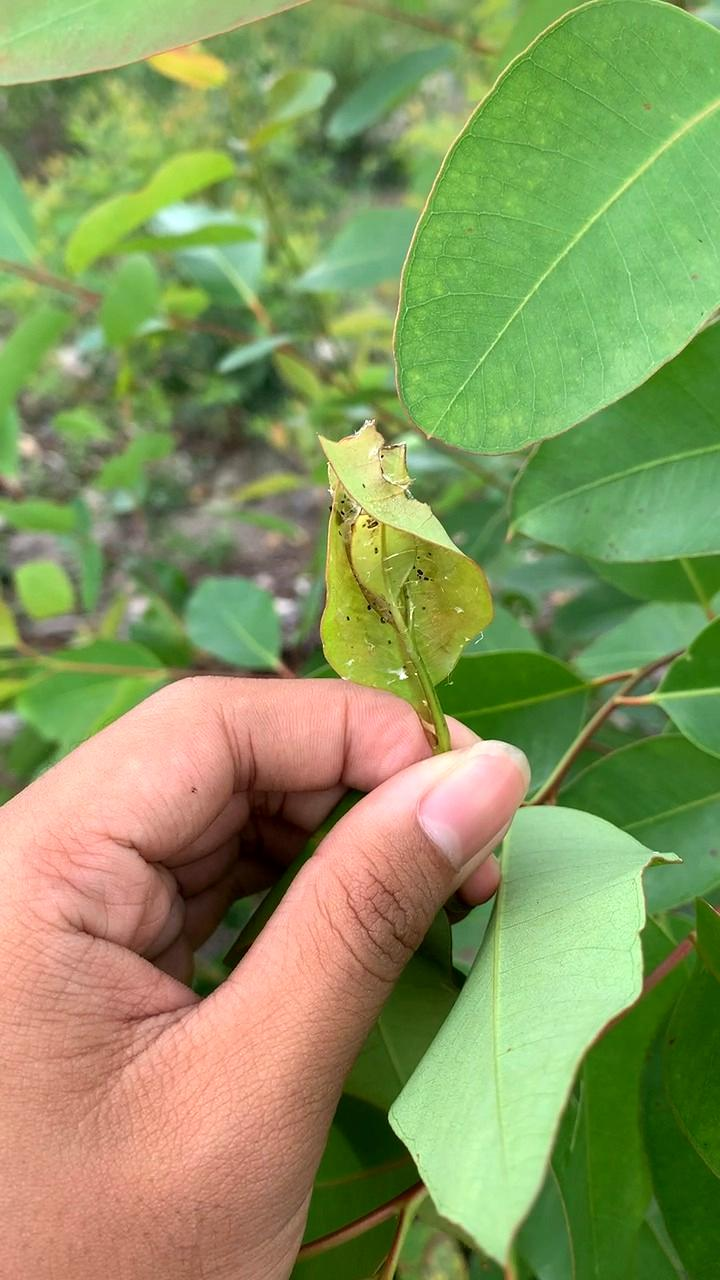Leaf Roller - Leaf: (273, 402, 506, 723)
